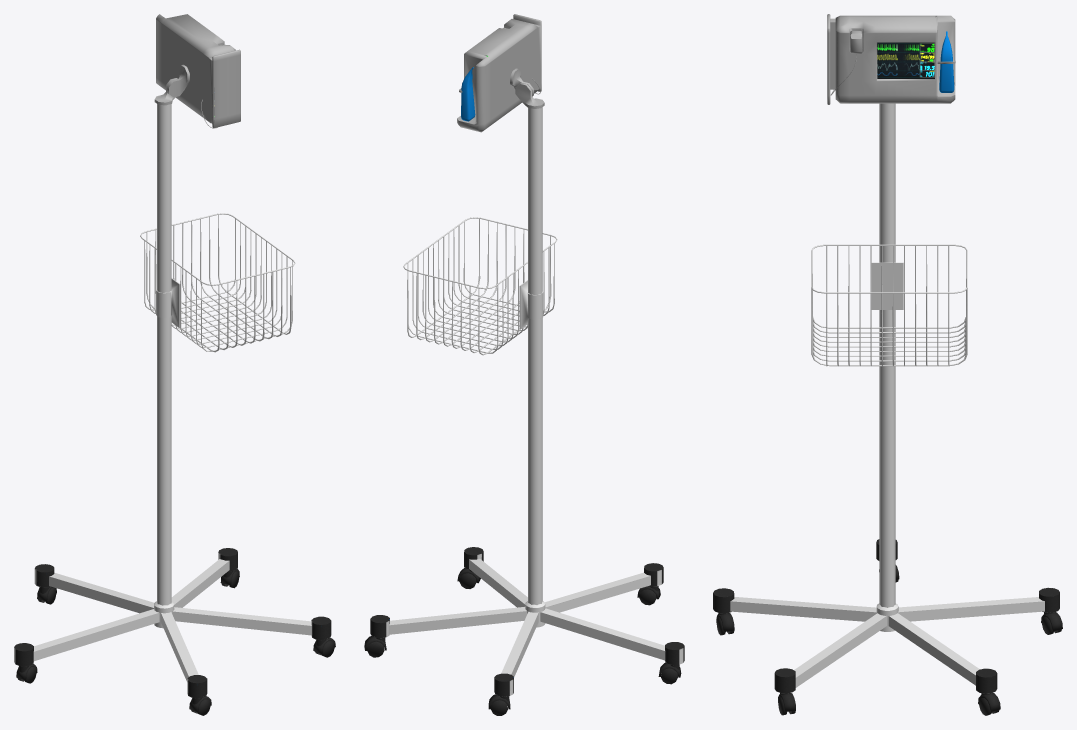
The picture shows the model from 3 angles, left to right: view 1: azimuth 30°, elevation 25°; view 2: azimuth 150°, elevation 25°; view 3: azimuth 270°, elevation 25°; orthographic projection. The views are drawn at different scales.
Parts seen in each view (by area): view 1: monitor; view 2: monitor; view 3: monitor.
Part boxes in pixels (x1,y1,x2,y2): monitor: [14, 14, 335, 715]; monitor: [364, 14, 684, 715]; monitor: [713, 14, 1062, 715].
Bounding box in the file's own units: 42.7 × 90.71 × 44.15.
1 material, 1 textured.
